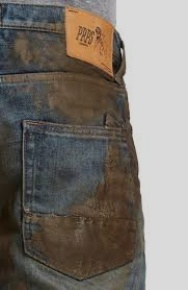earth: (43, 215, 136, 260), (59, 73, 109, 118), (11, 38, 63, 71), (105, 162, 137, 213)
